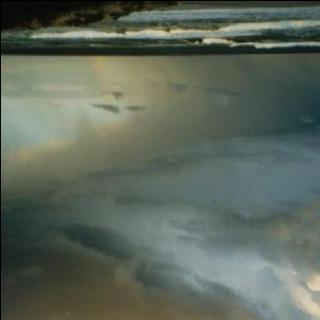Cumulonimbus: (0, 60, 320, 320)
